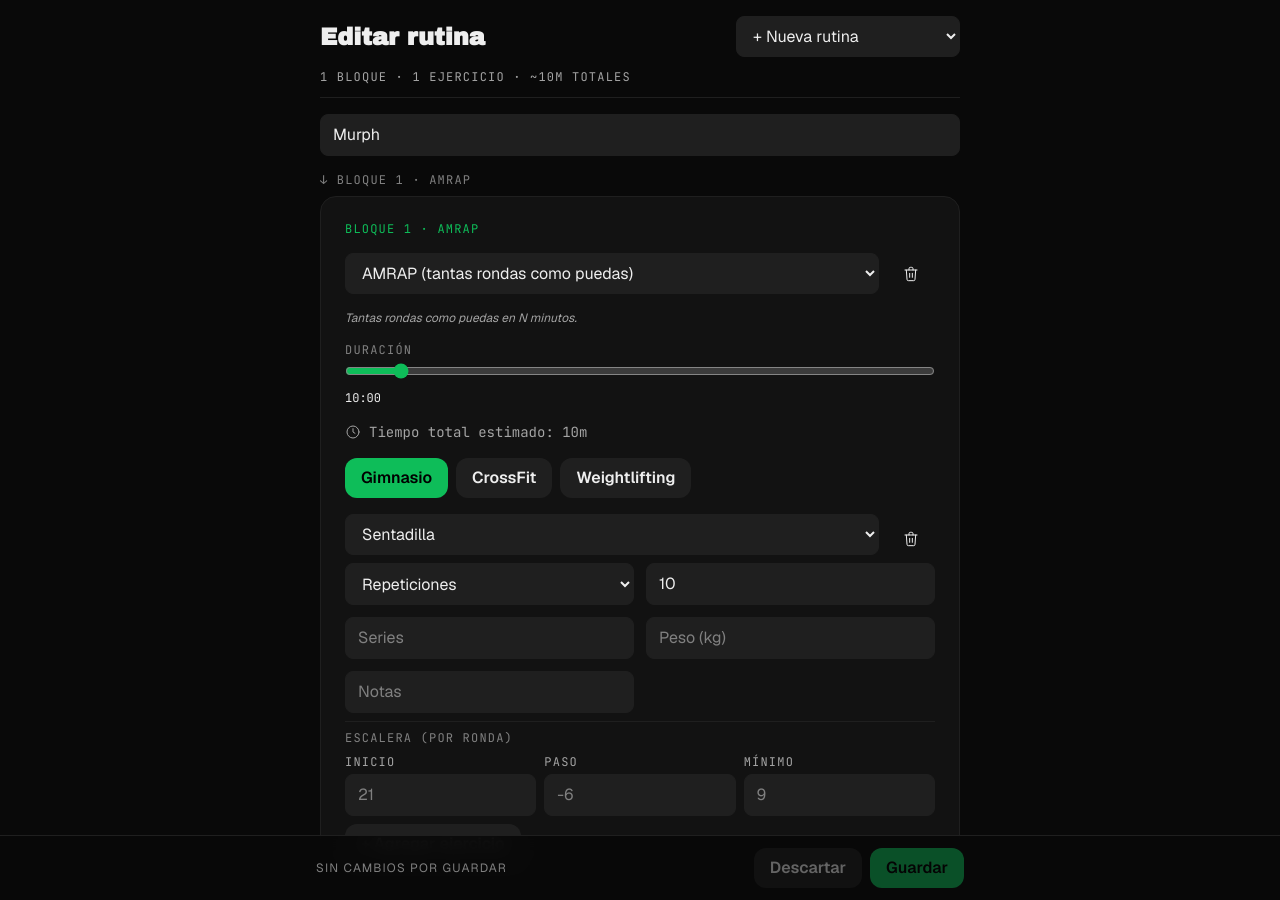
Test: WorkoutBuilder sticky save bar › tracks dirty state and discards unsaved changes
Expected: the message reads "Sin cambios por guardar", [316, 860, 507, 876]
Expected: the button "Descartar" is disabled, [754, 848, 862, 888]
Replace the text in the field named "Nombre del entrenamiento" with "Otro nombre" at coordinates (640, 135), box [320, 114, 960, 156]
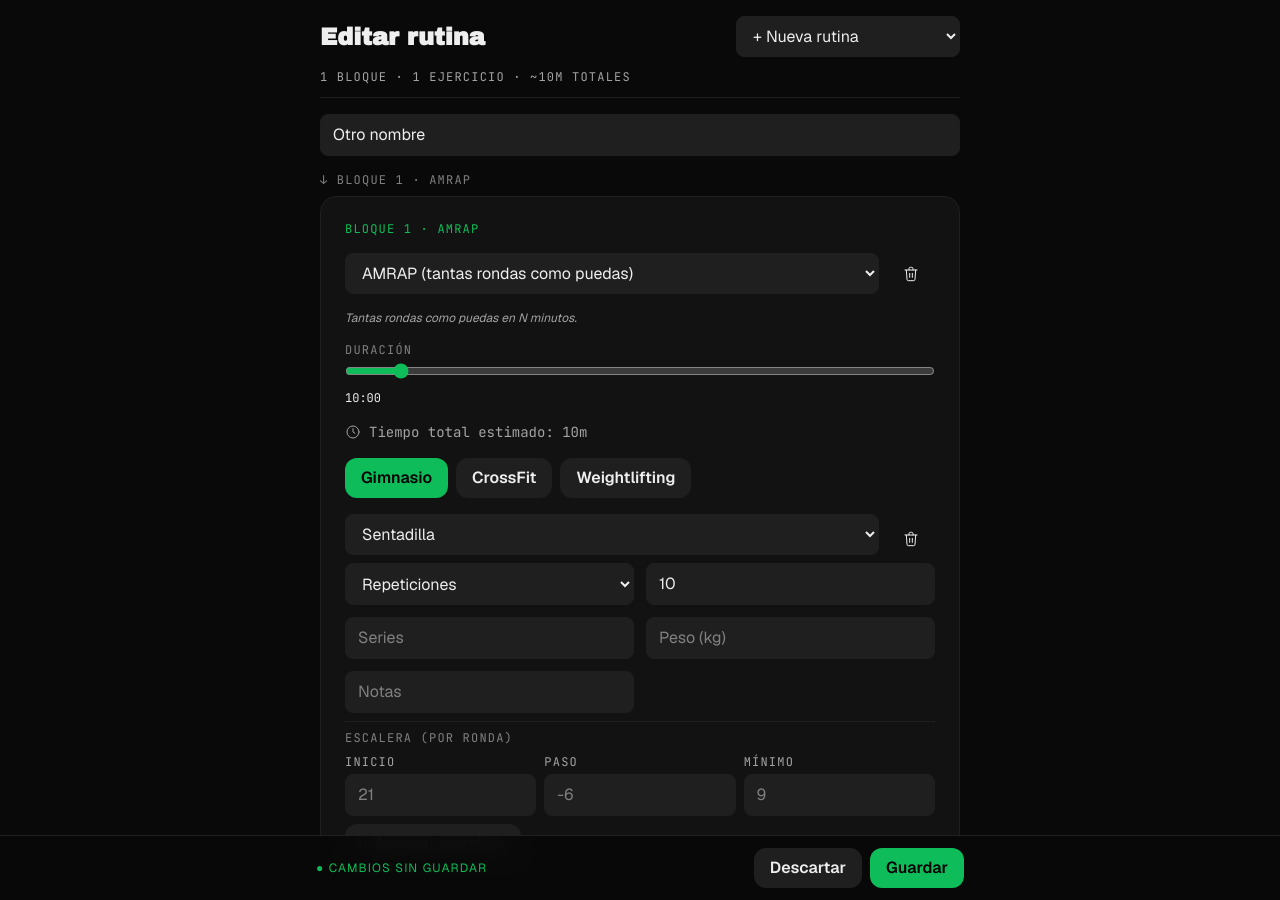
Expected: the message reads "● Cambios sin guardar", [316, 860, 487, 876]
Expected: the button "Descartar" is enabled
Expected: the button "Guardar" is enabled, [870, 848, 964, 888]
Click the button "Descartar" at coordinates (808, 868), box [754, 848, 862, 888]
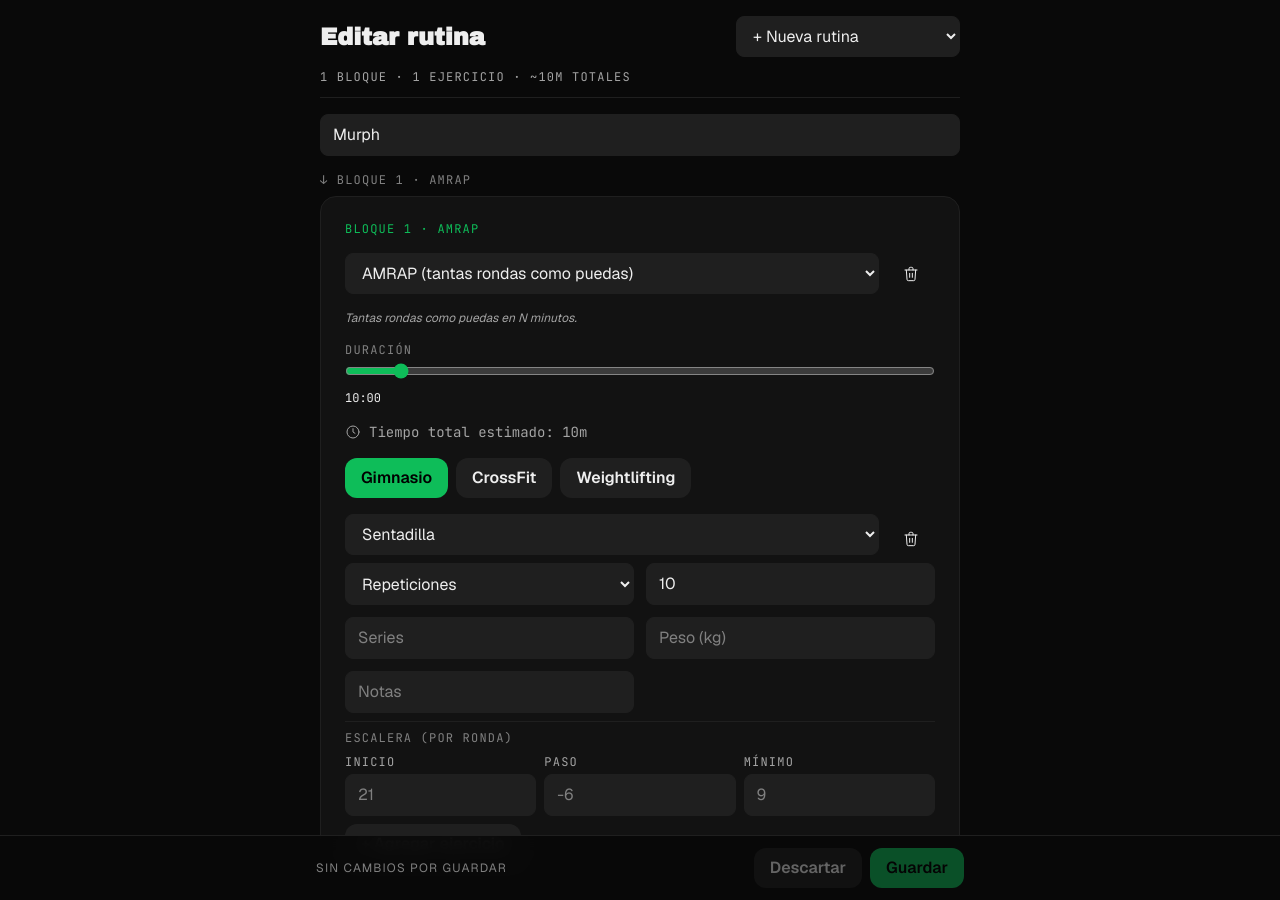
Expected: the message reads "Sin cambios por guardar", [316, 860, 507, 876]
Expected: the field named "Nombre del entrenamiento" holds "Murph", [320, 114, 960, 156]
